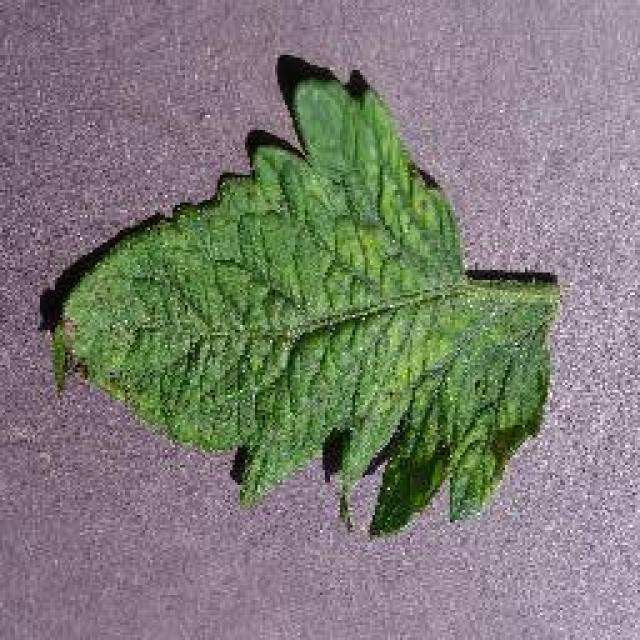Tomato spider mites leaf: (52, 74, 558, 544)
